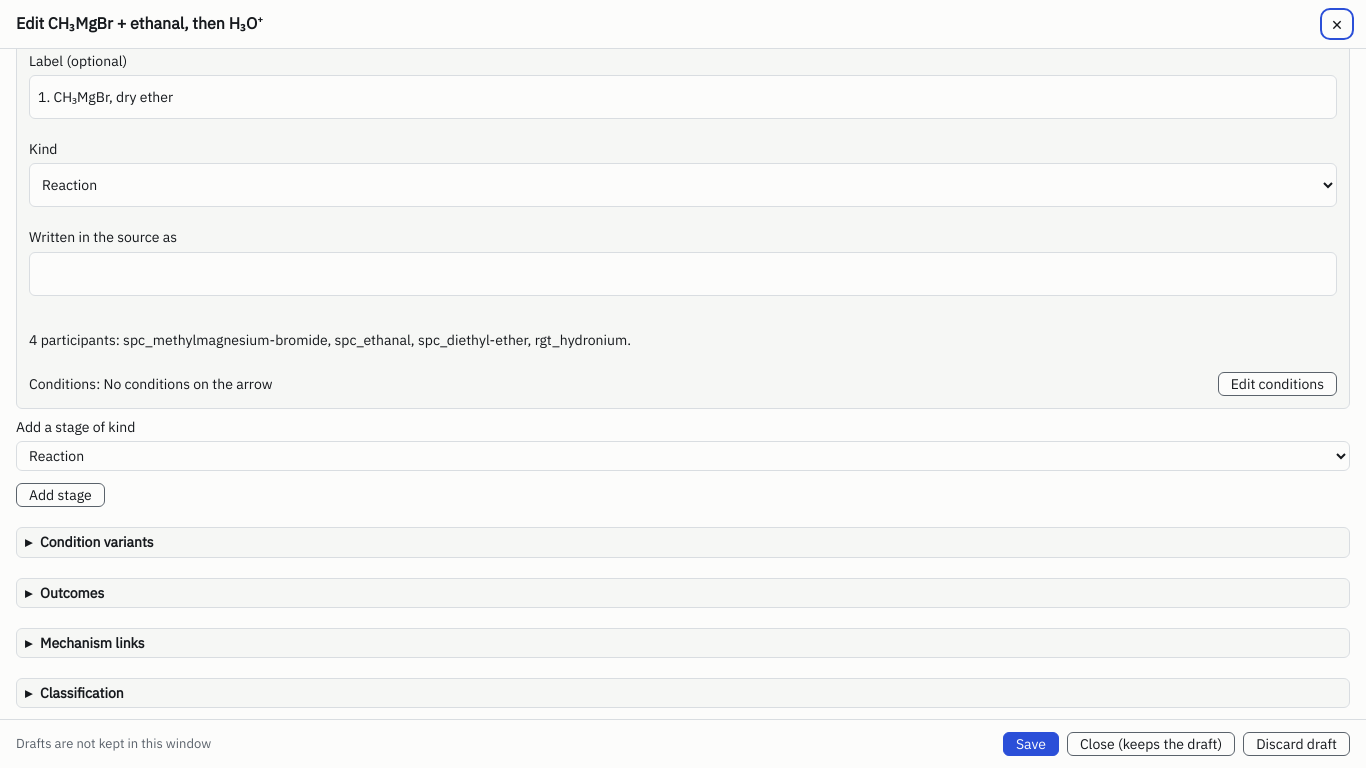
Test case: on a phone › the conditions form is stacked and the fields are real controls
(page scrolled)
Click the button with aria-label "Edit conditions of stage 1" at (1277, 384), box left=1218, top=372, right=1337, bottom=396
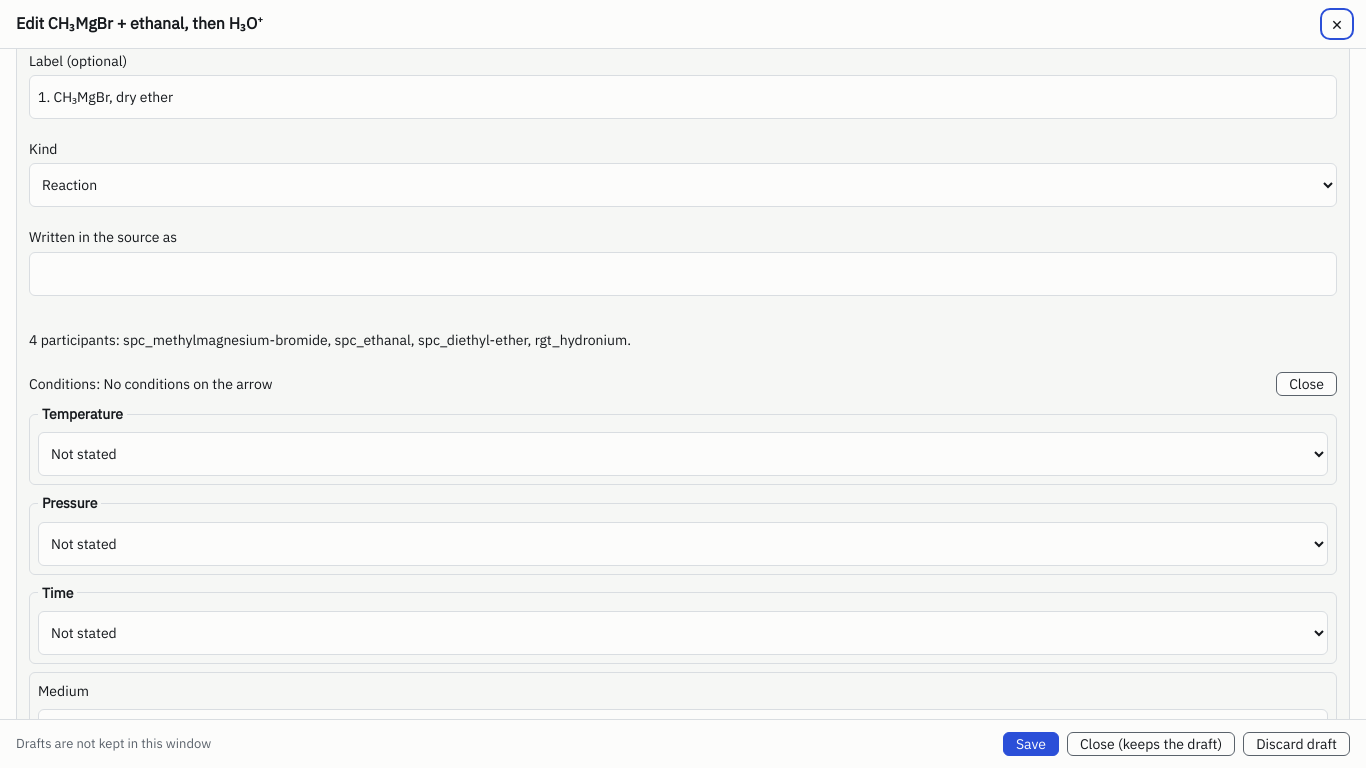
Select "A value" in the dropdown named "Temperature kind of stage 1" at (683, 454), box left=38, top=432, right=1328, bottom=476
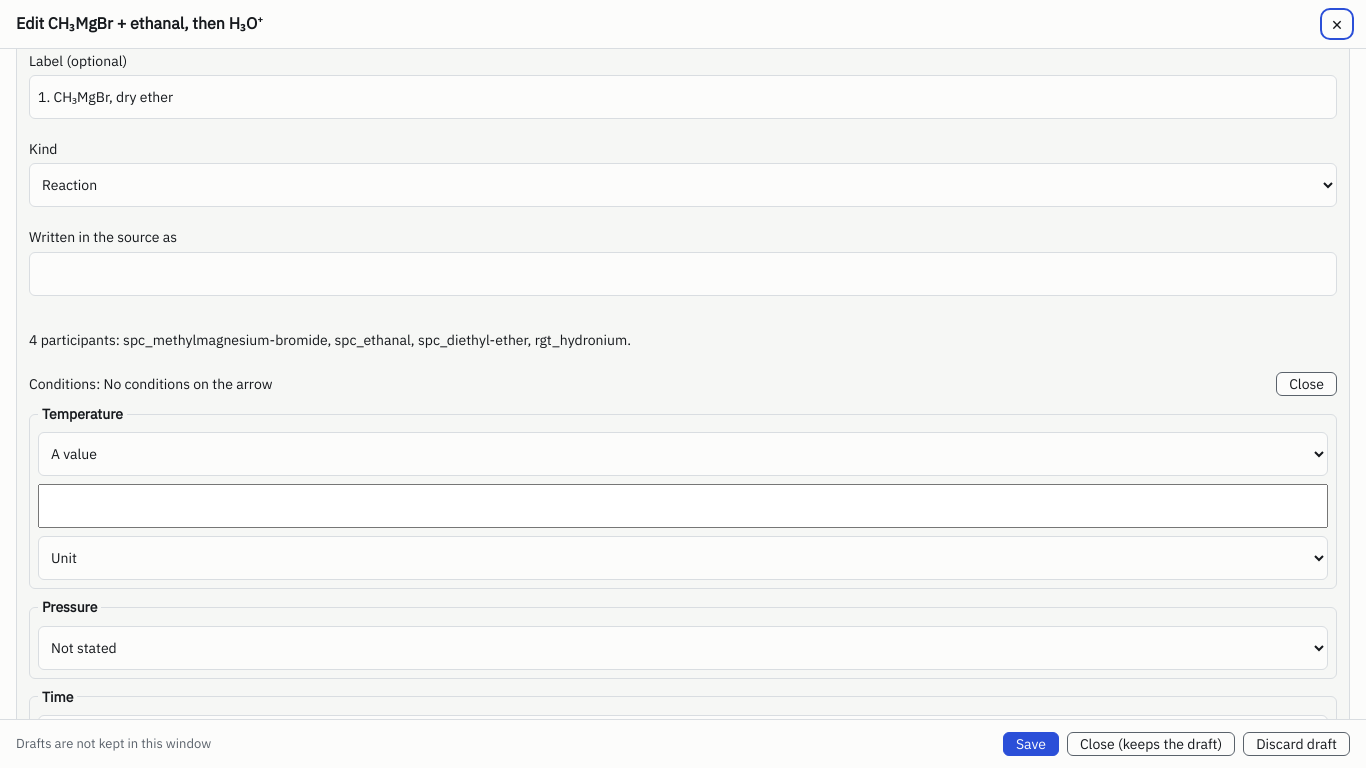
Now the number field named "Temperature value of stage 1" is shown, box left=38, top=484, right=1328, bottom=528
Now the dropdown named "Temperature unit of stage 1" is shown, box left=38, top=536, right=1328, bottom=580
